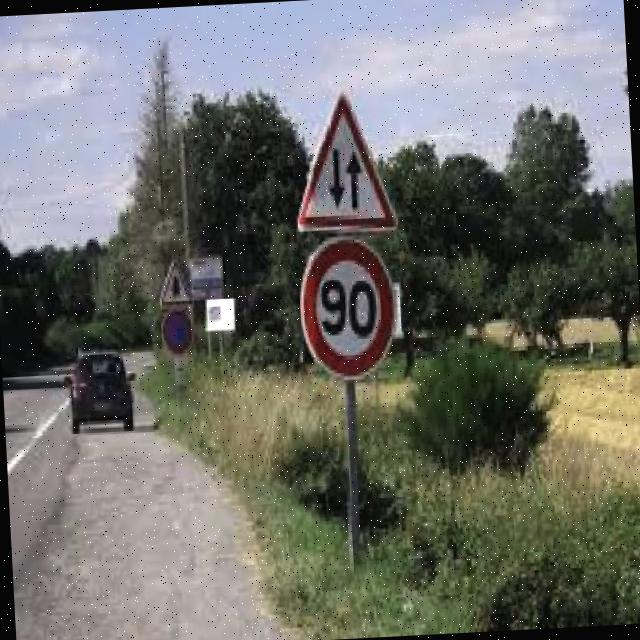Zakaz zatrzymywania sie: (160, 307, 195, 358)
